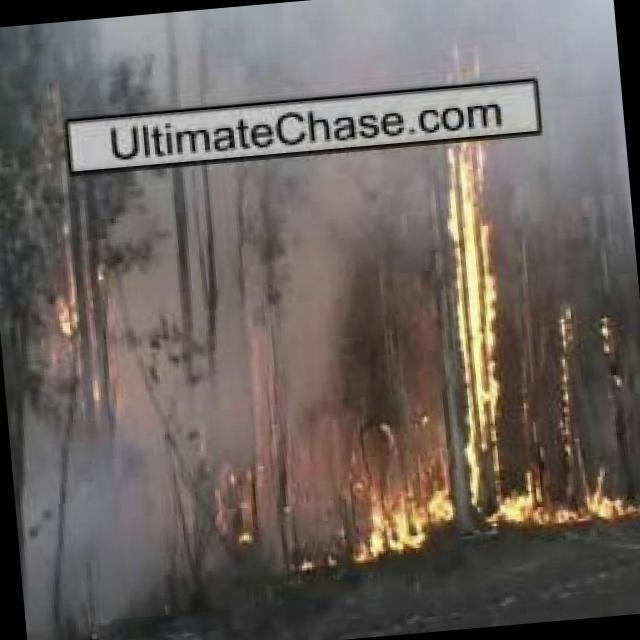fire: (433, 30, 544, 534), (554, 312, 640, 528), (28, 188, 132, 344), (338, 444, 458, 566), (196, 449, 288, 571)
